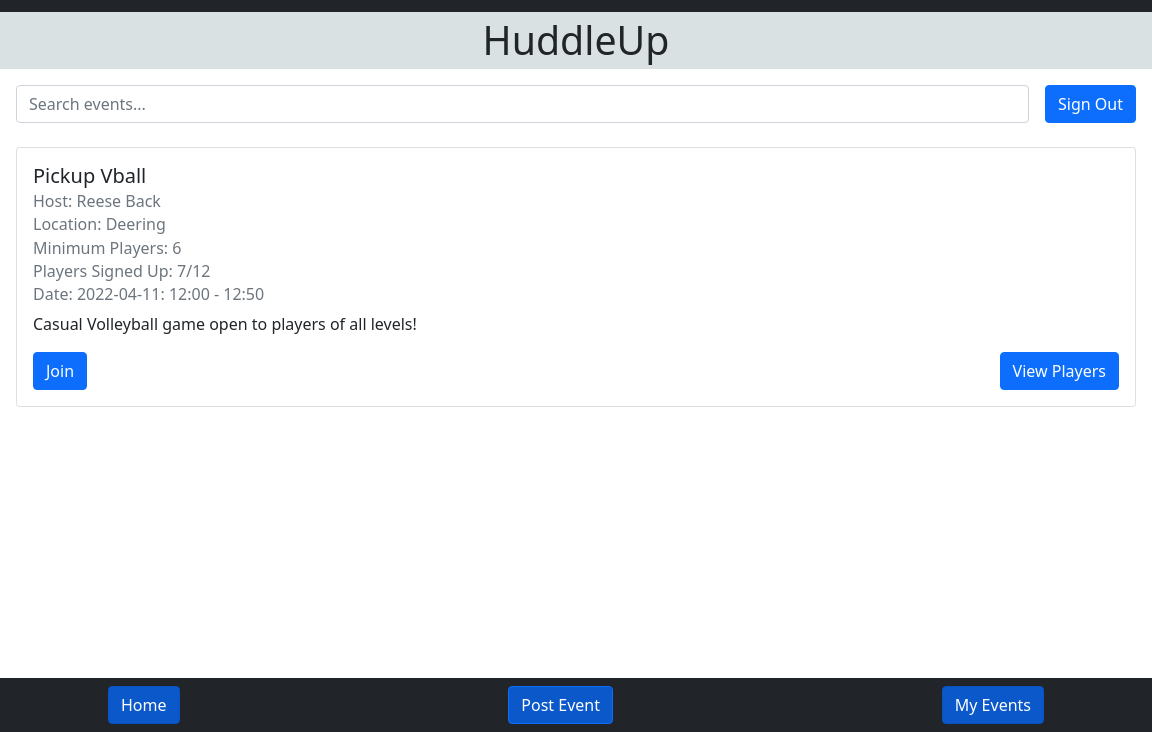
Scenario: joined events button
Click the button "My Events" at [993, 705], box [942,686,1044,724]
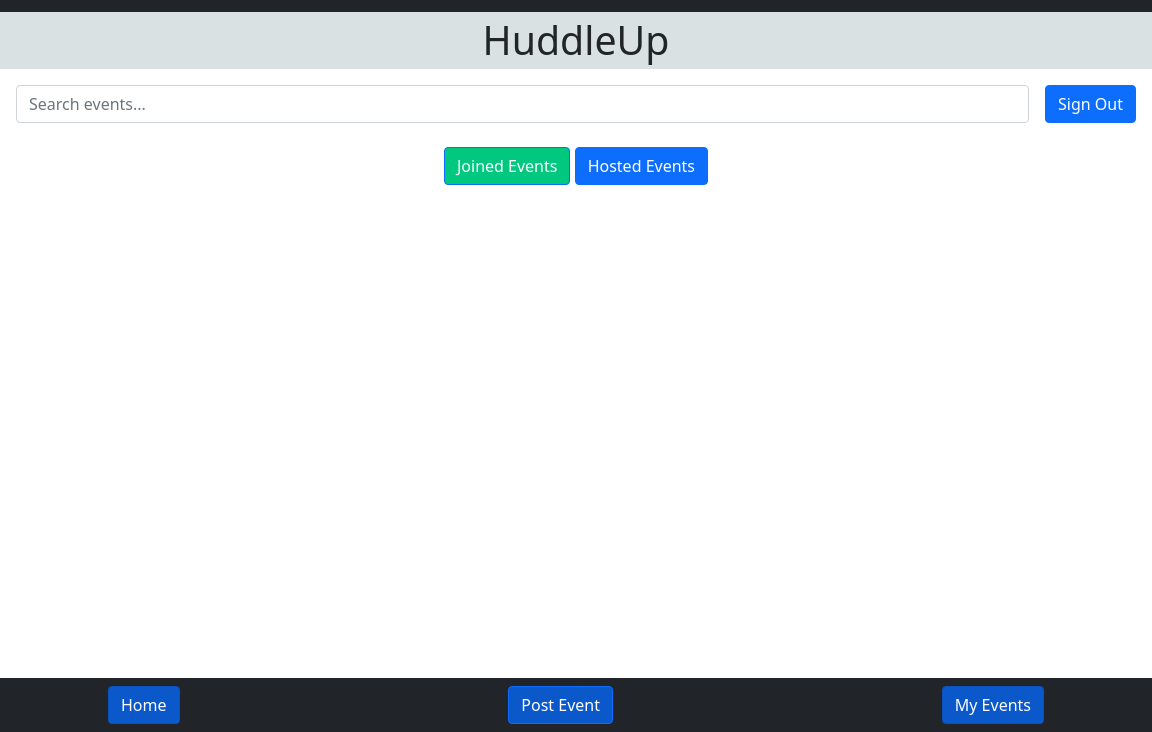
Now the button "Joined Events" is shown, box [444,147,570,185]
